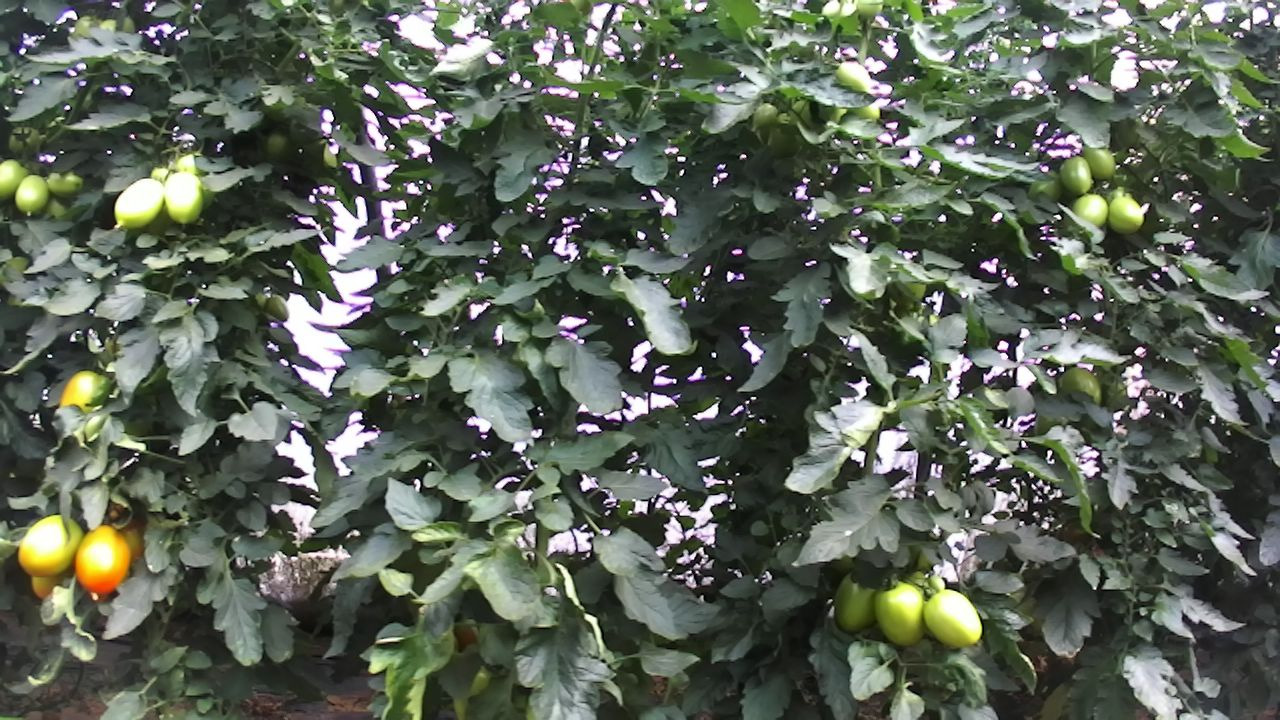tomato: (70, 521, 134, 599), (16, 511, 86, 578), (871, 577, 929, 648), (921, 586, 983, 650), (829, 570, 882, 637), (111, 176, 165, 231), (162, 169, 205, 226), (1105, 194, 1145, 236), (12, 173, 50, 217), (1070, 190, 1111, 228), (0, 156, 32, 203), (1057, 154, 1092, 196), (1080, 144, 1116, 182)
